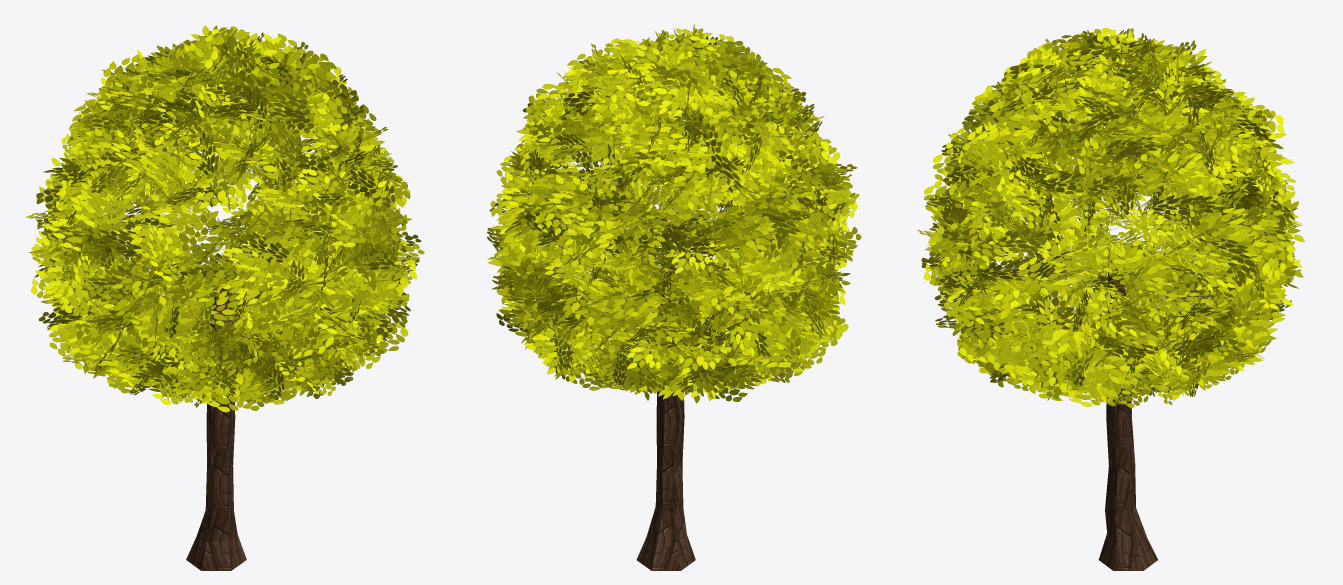
The model's file is Tree 4.fbx.
3 renders of one model, left to right at view 1: azimuth 30°, elevation 25°; view 2: azimuth 150°, elevation 25°; view 3: azimuth 270°, elevation 25°, orthographic. The views are drawn at different scales.
Visible parts, largest first — view 1: Tree 4, Tree Base 4; view 2: Tree 4, Tree Base 4; view 3: Tree 4, Tree Base 4.
Boxes of the visible parts, left/top/right/bottom form: Tree 4: left=26, top=25, right=424, bottom=412; Tree Base 4: left=186, top=276, right=246, bottom=570; Tree 4: left=487, top=24, right=861, bottom=403; Tree Base 4: left=636, top=267, right=695, bottom=570; Tree 4: left=917, top=28, right=1304, bottom=407; Tree Base 4: left=1098, top=268, right=1157, bottom=570.
Bounding box in the file's own units: 913 × 1273 × 932.
